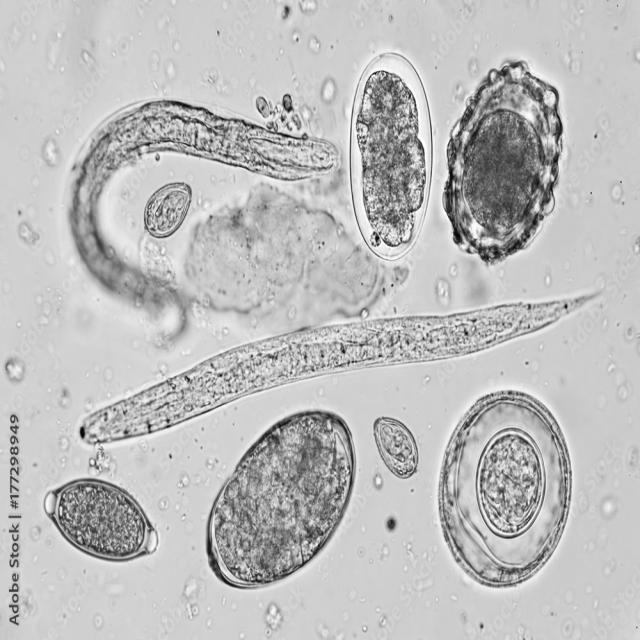Ancylostoma Spp: (344, 44, 435, 267)
Ascaris Lumbricoides: (436, 55, 566, 274)
Fasciola Hepatica: (199, 405, 362, 590)
Hymenolepis: (433, 385, 574, 595)
Trichuris Trichiura: (37, 468, 161, 574)
